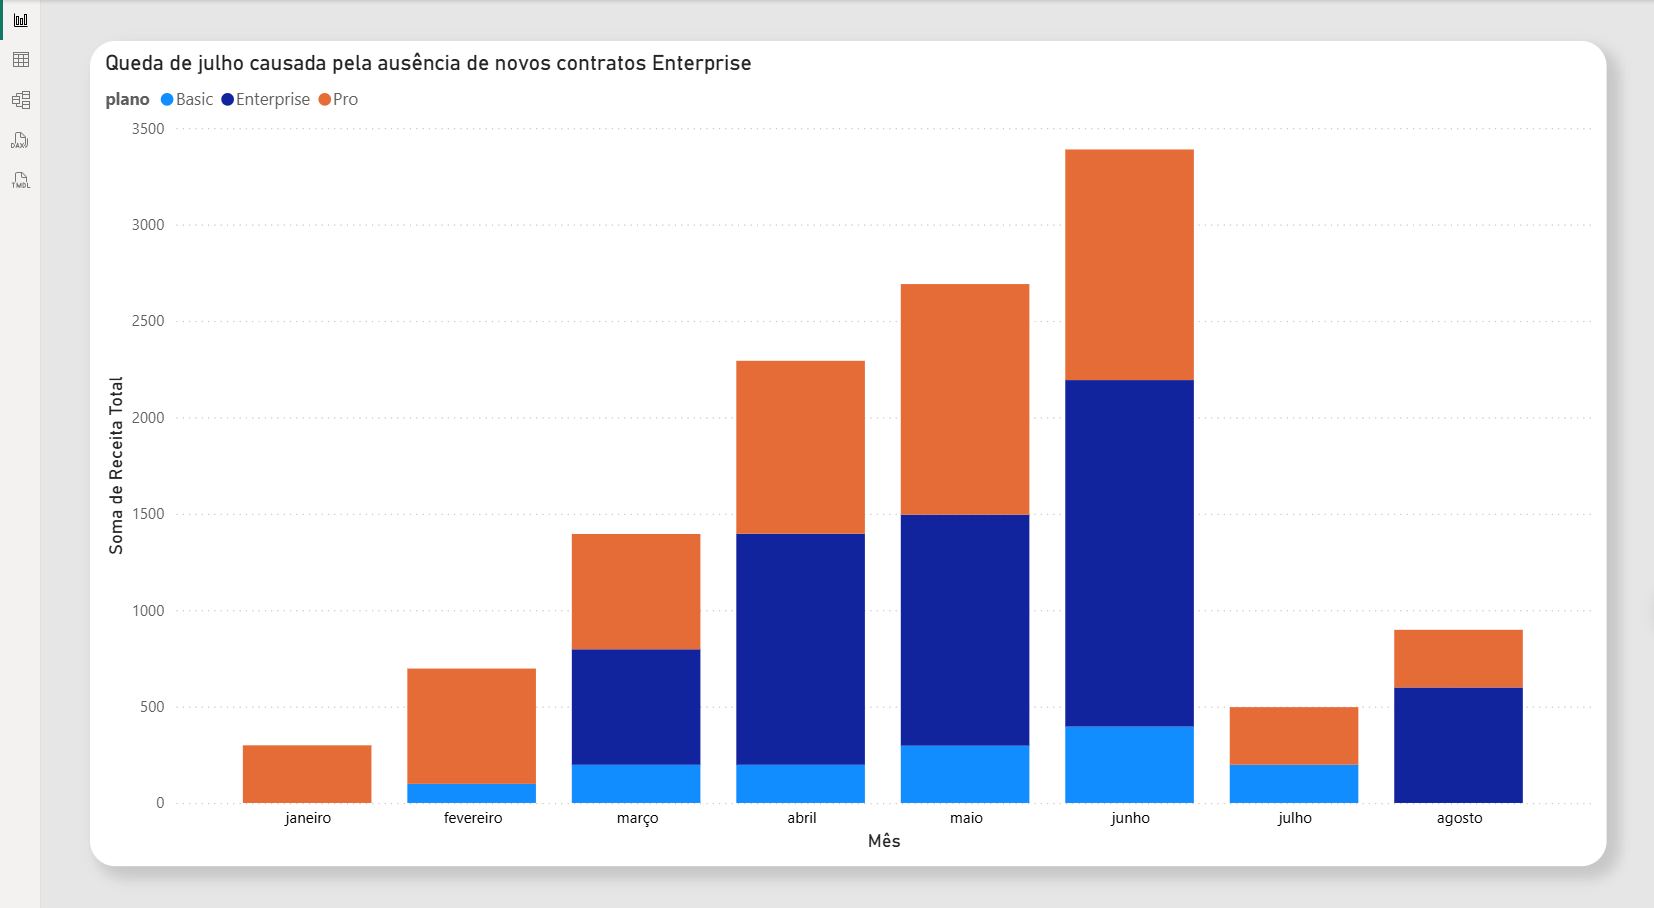

The page's visual inventory and layout, read from the dashboard file:
{"tool":"powerbi","page":{"name":"Causa Raiz","canvas":[1280,720],"ordinal":3},"visuals":[{"type":"columnChart","title":"Queda de julho causada pela ausência de novos contratos Enterprise","fields":{"Category":["05_receita_por_plano.mes.Variation.Hierarquia de datas.Mês","05_receita_por_plano.mes.Variation.Hierarquia de datas.Dia"],"Series":["05_receita_por_plano.plano"],"Y":["Sum(05_receita_por_plano.receita_total)"]},"box":[38.9,139.4,1202.3,280],"z":0}]}

Visuals, with their boxes on the page's 1280x720 design canvas (x1, y1, x2, y2). These are canvas units, not pixel positions in the 1654x908 screenshot, which may show the page scaled, cropped or inside an application window:
"Queda de julho causada pela ausência de novos contratos Enterprise" columnChart: rect(39, 139, 1241, 419)
